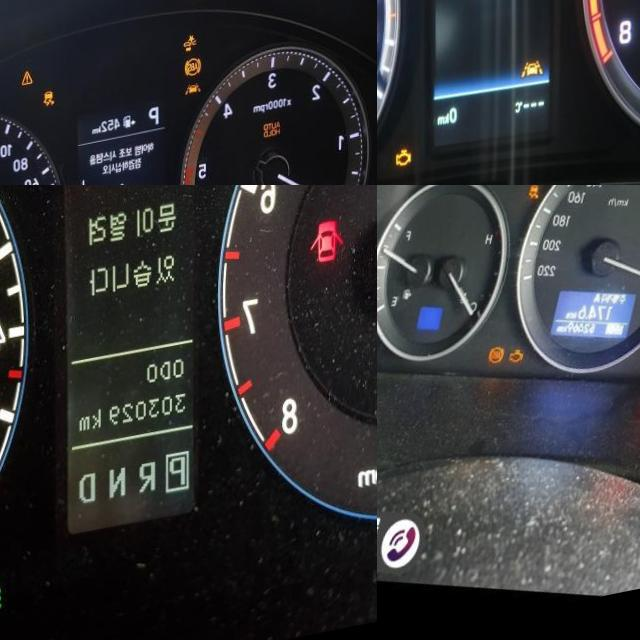Central Warning lamp: (22, 79, 33, 94)
Doors: (310, 236, 345, 283)
LaneCenteringOff: (520, 71, 544, 96), (184, 96, 201, 111)
